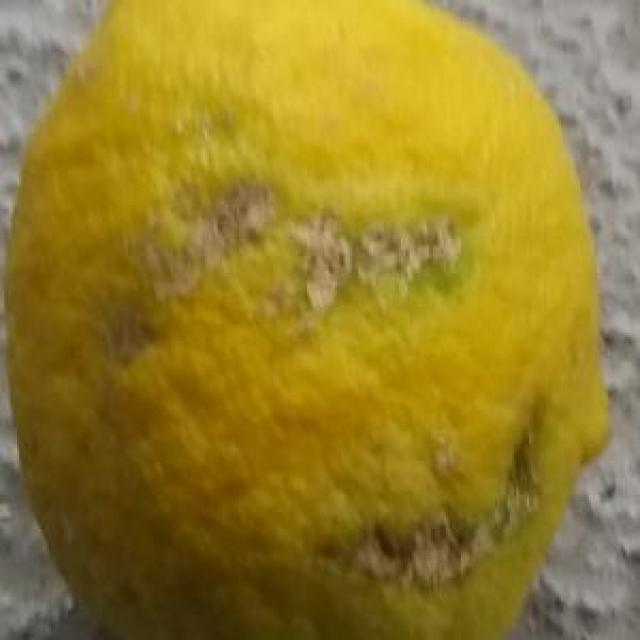lemon: (6, 4, 614, 640)
